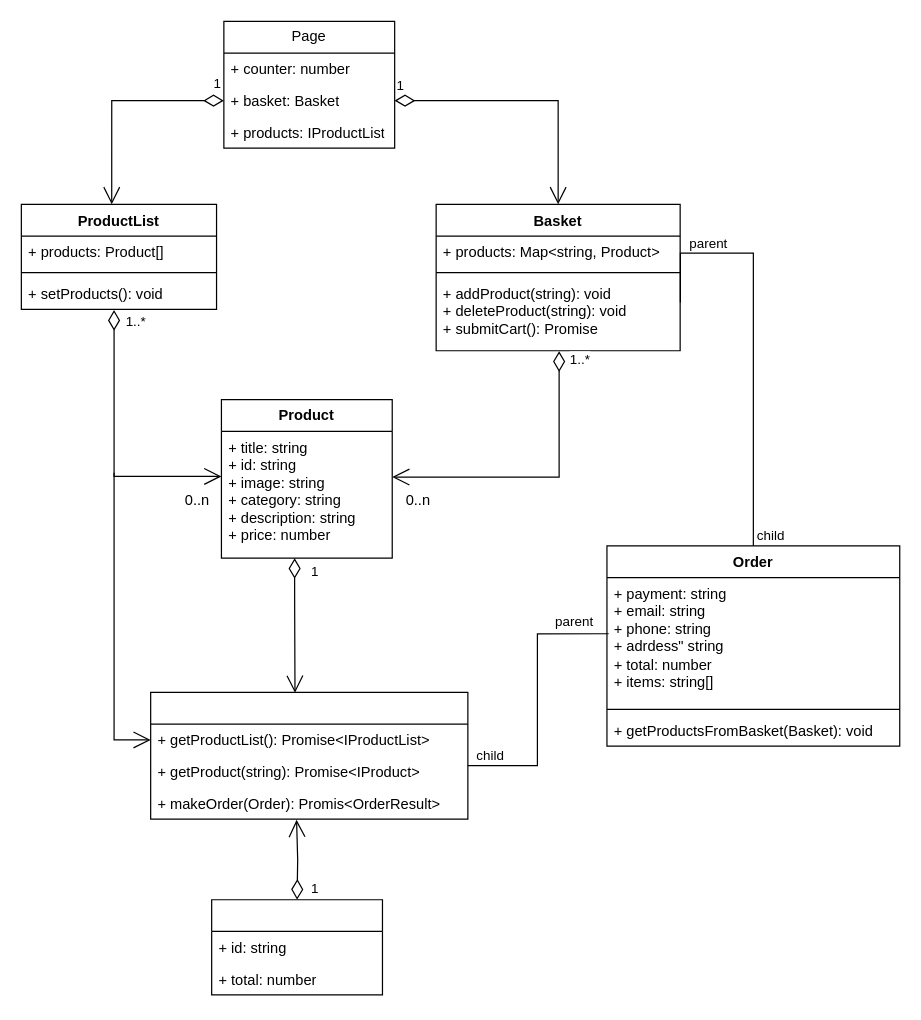
The diagram is 921 pixels wide and 1020 high, and some of its shapes have lost their labels. The shapes that lost their labels are listed below. From the top down, each one's box as (x1, y1, x2, y2) in pixels, then its label:
(149, 691, 468, 819): LarekAPI
(210, 899, 382, 995): OrderResult
